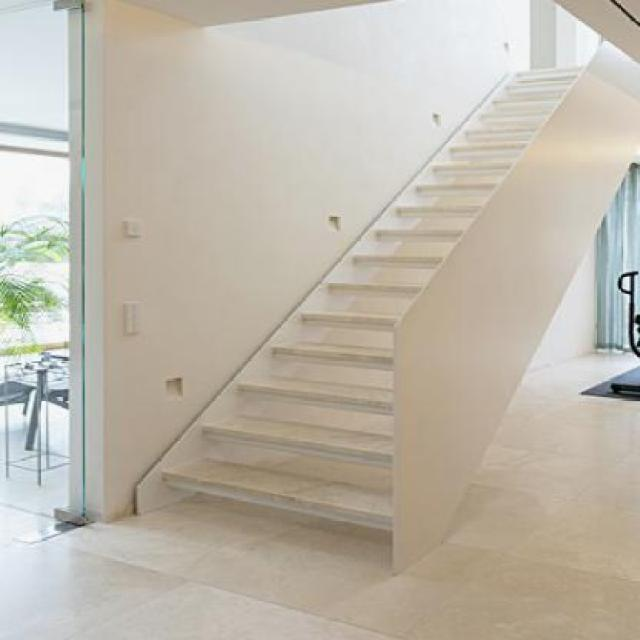stair: (114, 51, 638, 554)
